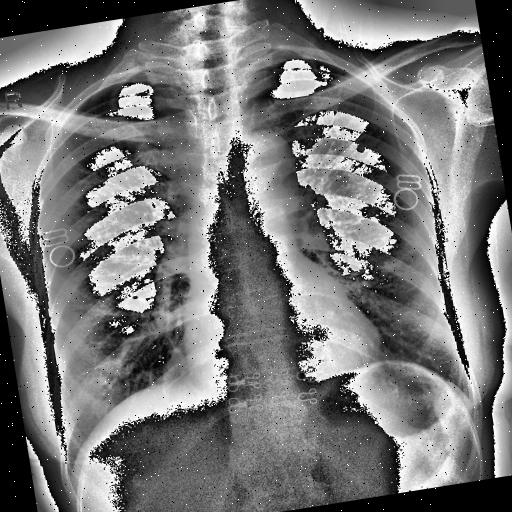0- Aortic enlargement: (223, 128, 302, 208), (220, 124, 297, 198), (230, 126, 298, 190)
8- Nodule-Mass: (353, 142, 365, 154), (354, 144, 366, 152), (354, 144, 364, 152)
9- Other lesion: (353, 142, 365, 154)
